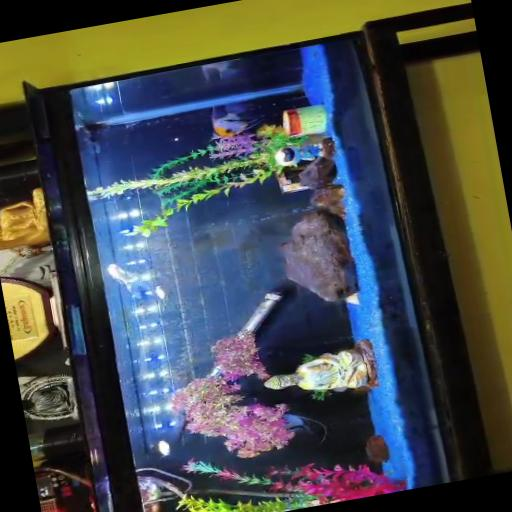Fish: (212, 101, 262, 137), (212, 102, 262, 137), (108, 264, 150, 298), (284, 413, 327, 442), (202, 58, 240, 81), (108, 264, 138, 290), (284, 413, 313, 433), (155, 286, 166, 299)
